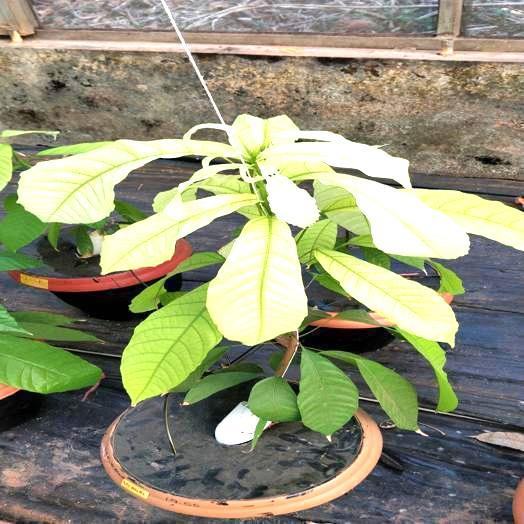Healthy Leaf: (323, 351, 417, 428), (0, 335, 101, 393), (297, 349, 357, 436), (0, 195, 46, 250), (184, 371, 257, 403), (248, 376, 299, 421), (0, 250, 41, 271)
Iron: (19, 140, 233, 223), (306, 173, 468, 258), (316, 249, 457, 346), (207, 216, 306, 345), (122, 285, 222, 404), (101, 196, 254, 273), (259, 139, 410, 186), (415, 189, 523, 250), (131, 252, 223, 311), (395, 330, 457, 410), (153, 165, 250, 211), (228, 114, 299, 158), (266, 174, 319, 228), (314, 182, 369, 233), (12, 312, 98, 341), (297, 219, 336, 265), (0, 144, 12, 190), (294, 130, 346, 140)
